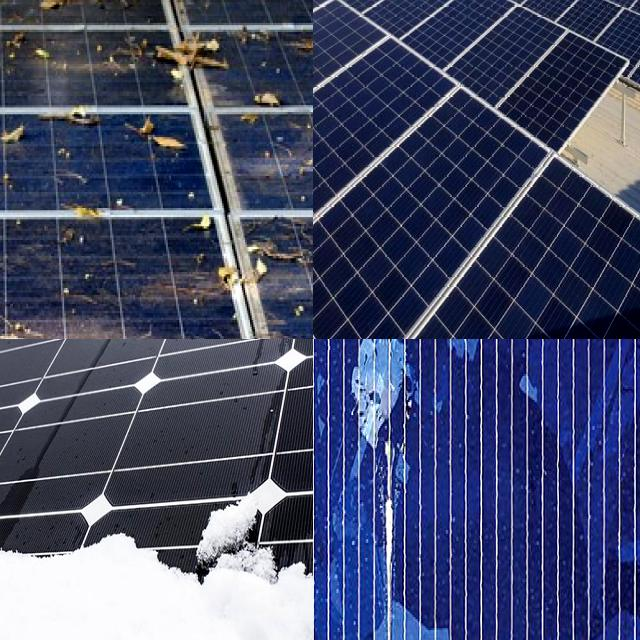crack: (313, 57, 552, 339), (380, 160, 640, 339), (313, 16, 468, 287), (484, 0, 630, 179), (450, 0, 566, 132)
panel: (75, 504, 202, 602), (216, 493, 288, 612), (173, 339, 313, 384), (0, 489, 64, 579), (0, 476, 49, 567), (51, 339, 173, 372), (0, 339, 50, 377), (0, 339, 70, 366)
shadow: (336, 595, 421, 640)
